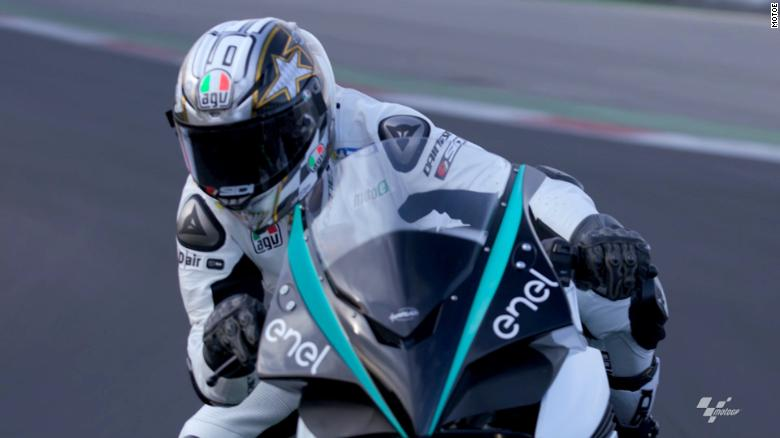helmet: (151, 13, 345, 234)
